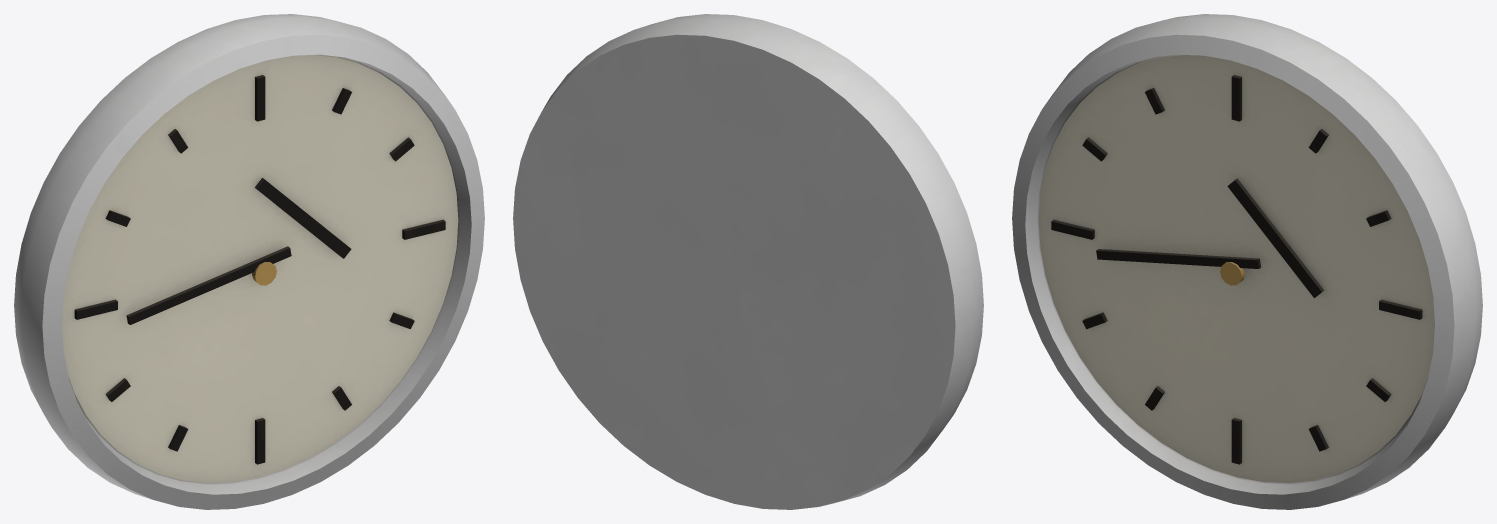
Rendered from wall_clock.glb.
The picture shows the model from 3 angles, left to right: view 1: azimuth 30°, elevation 25°; view 2: azimuth 150°, elevation 25°; view 3: azimuth 330°, elevation 25°; orthographic projection.
Parts seen in each view (by area): view 1: wall_clock; view 2: wall_clock; view 3: wall_clock.
Boxes of the visible parts, <box> form: wall_clock: <box>14,14,484,509</box>; wall_clock: <box>513,14,983,509</box>; wall_clock: <box>1012,14,1482,509</box>.
Bounding box in the file's own units: 0.332 × 0.332 × 0.04.
Materials: 1 (1 with a texture image).
